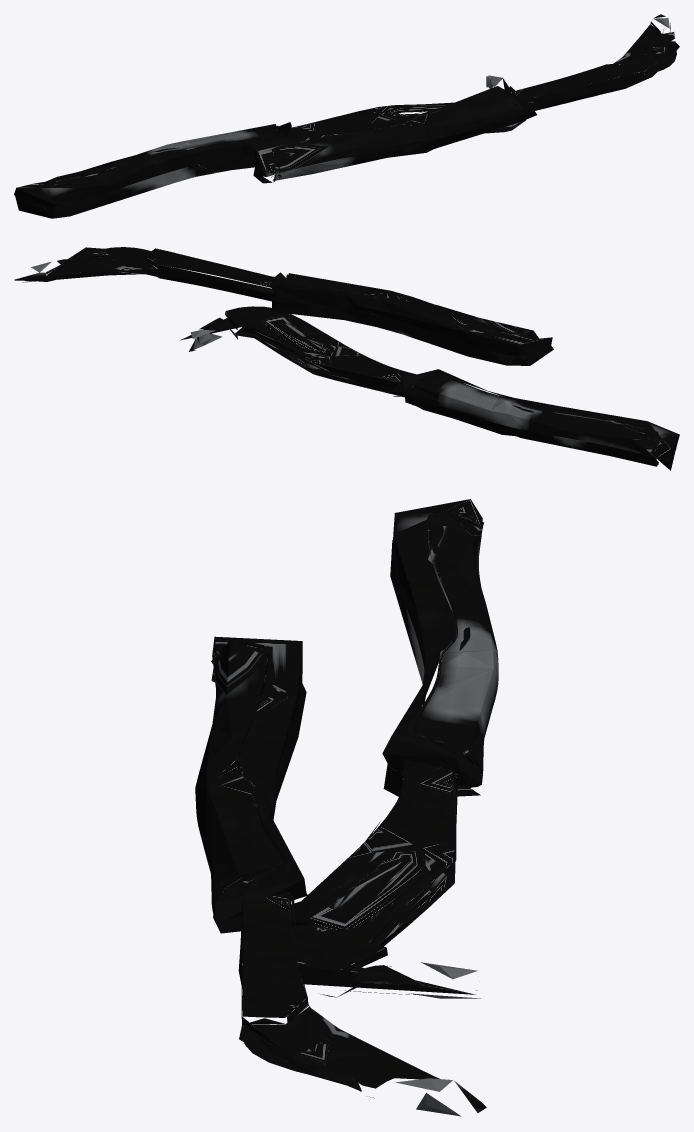
File: handTool_pliers_groove_joint_16in_b01.glb
3 views of the same model, one above another, from view 1: azimuth 30°, elevation 25°; view 2: azimuth 150°, elevation 25°; view 3: azimuth 270°, elevation 25° (orthographic). The views are drawn at different scales.
Visible parts, largest first — view 1: geometry_0; view 2: geometry_0; view 3: geometry_0.
Part boxes in pixels (x1=…): geometry_0: x1=14, y1=14, x2=679, y2=218; geometry_0: x1=14, y1=247, x2=679, y2=470; geometry_0: x1=195, y1=499, x2=498, y2=1116.
Size of the model in its own units: 0.42 by 0.0311 by 0.0846.
1 material, 1 textured.
